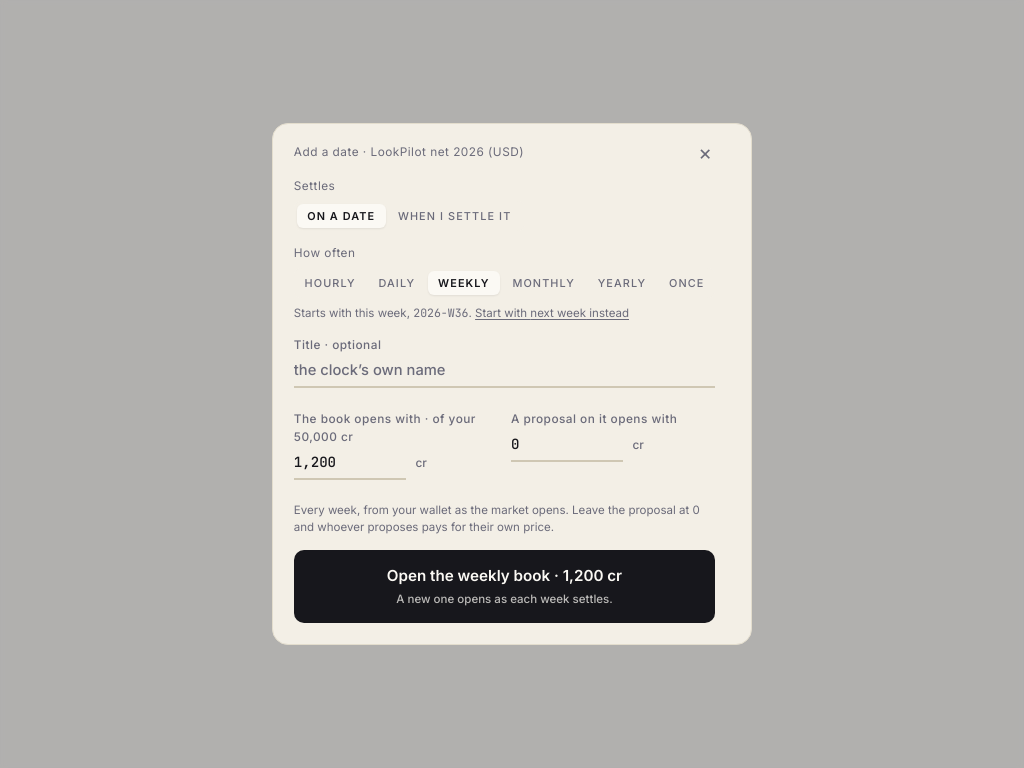
Test: dialog 2: add a date, right after the metric is created › the hour is disabled until a day is picked
expect the button "Open the weekly book" is enabled: met, box [294, 550, 715, 624]
Click the button "once" at x=687, y=283, box [659, 271, 715, 295]
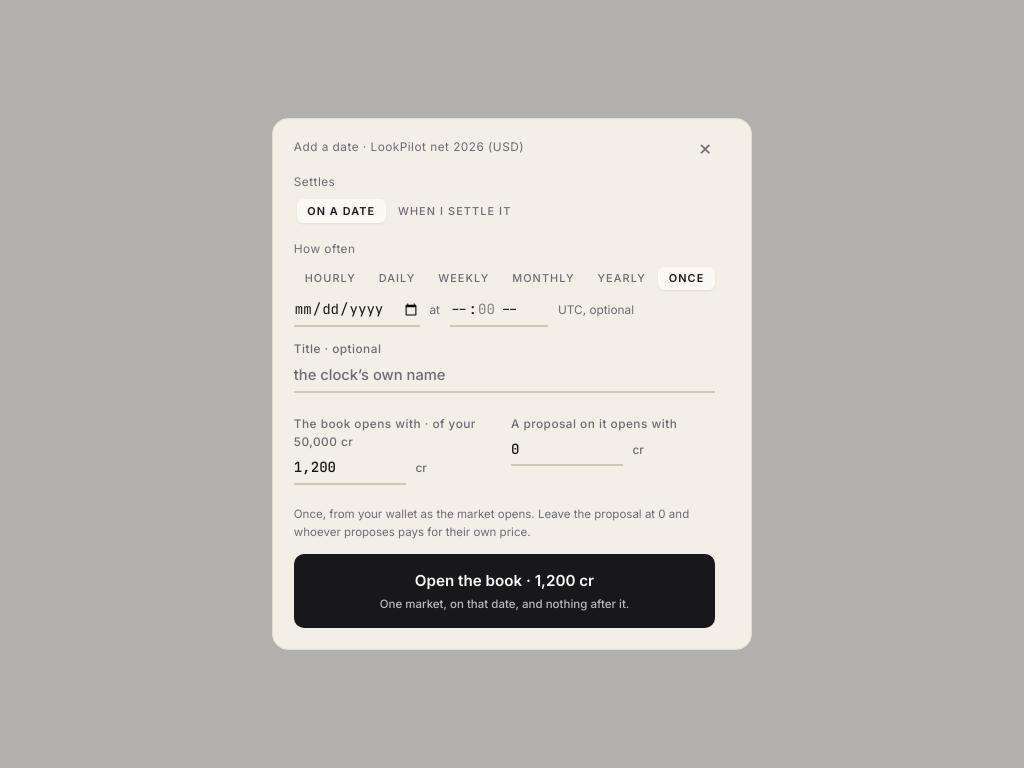
expect the time field named "Pick an hour, UTC" is disabled: met, box [450, 299, 548, 327]
Type "2026-09-30" into the date field named "Pick a date" at x=357, y=313, box [294, 299, 420, 327]
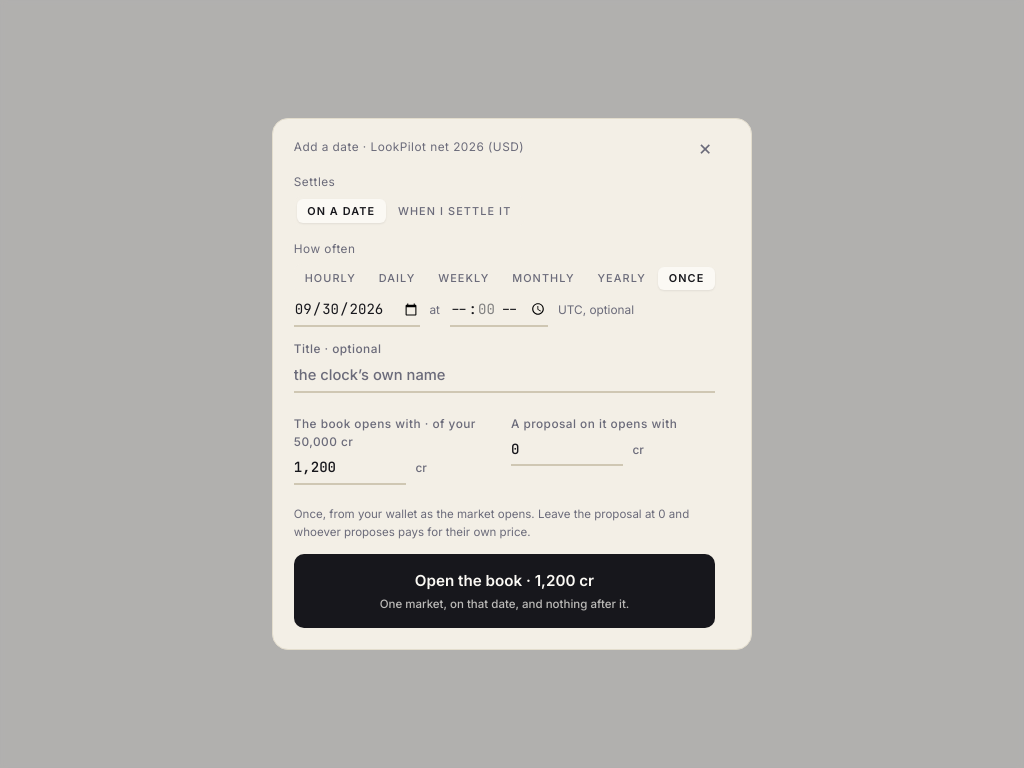
expect the time field named "Pick an hour, UTC" is enabled: met, box [450, 299, 548, 327]
